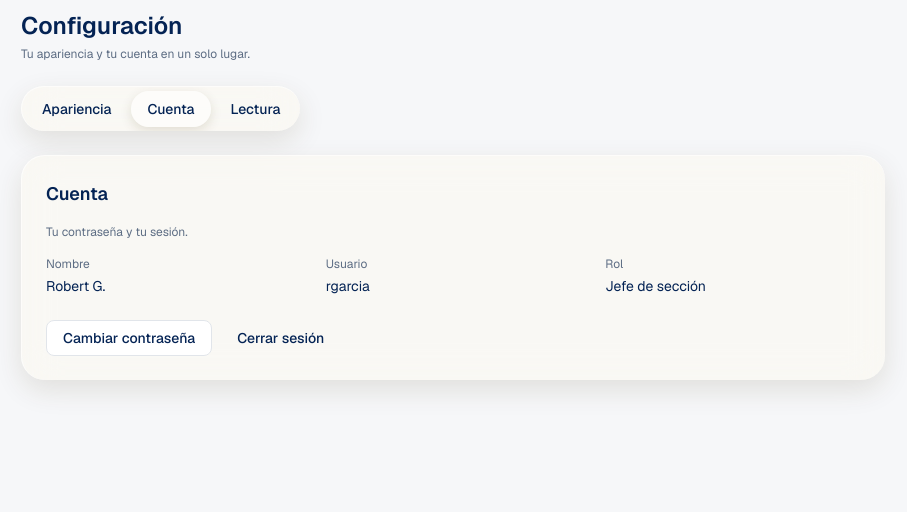
Test case: Cuenta (N-02) › si no se pudo cerrar la sesión, lo explica y deja volver a intentarlo
Click the button "Cerrar sesión" at (281, 338), box [220,320,341,356]
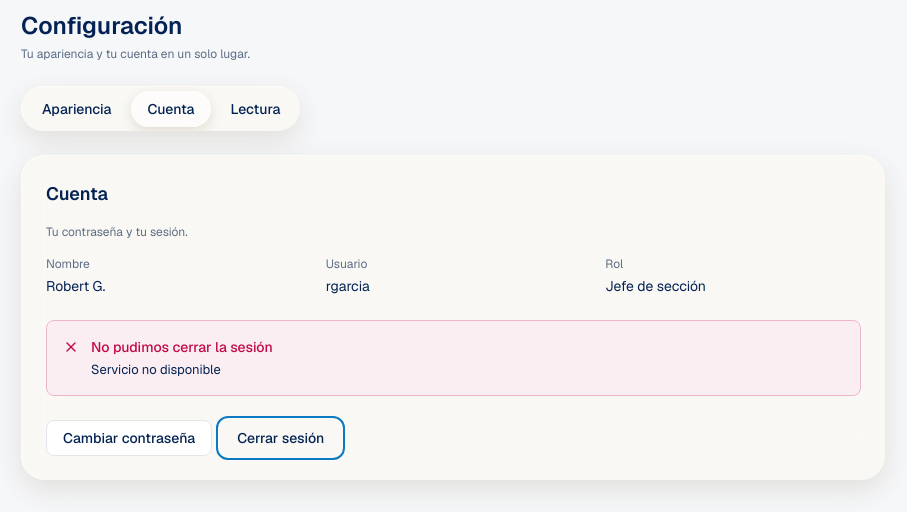
Check: the button "Cerrar sesión" is enabled, box [220,420,341,456]
Check: the text "Servicio no disponible" is shown, box [91,361,221,378]
